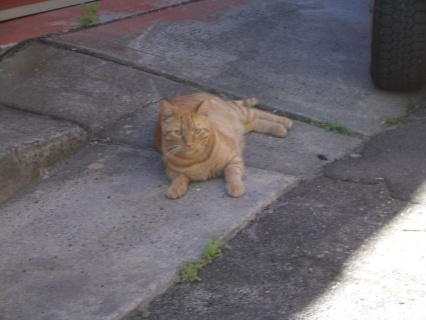Cat: (152, 91, 295, 200)
